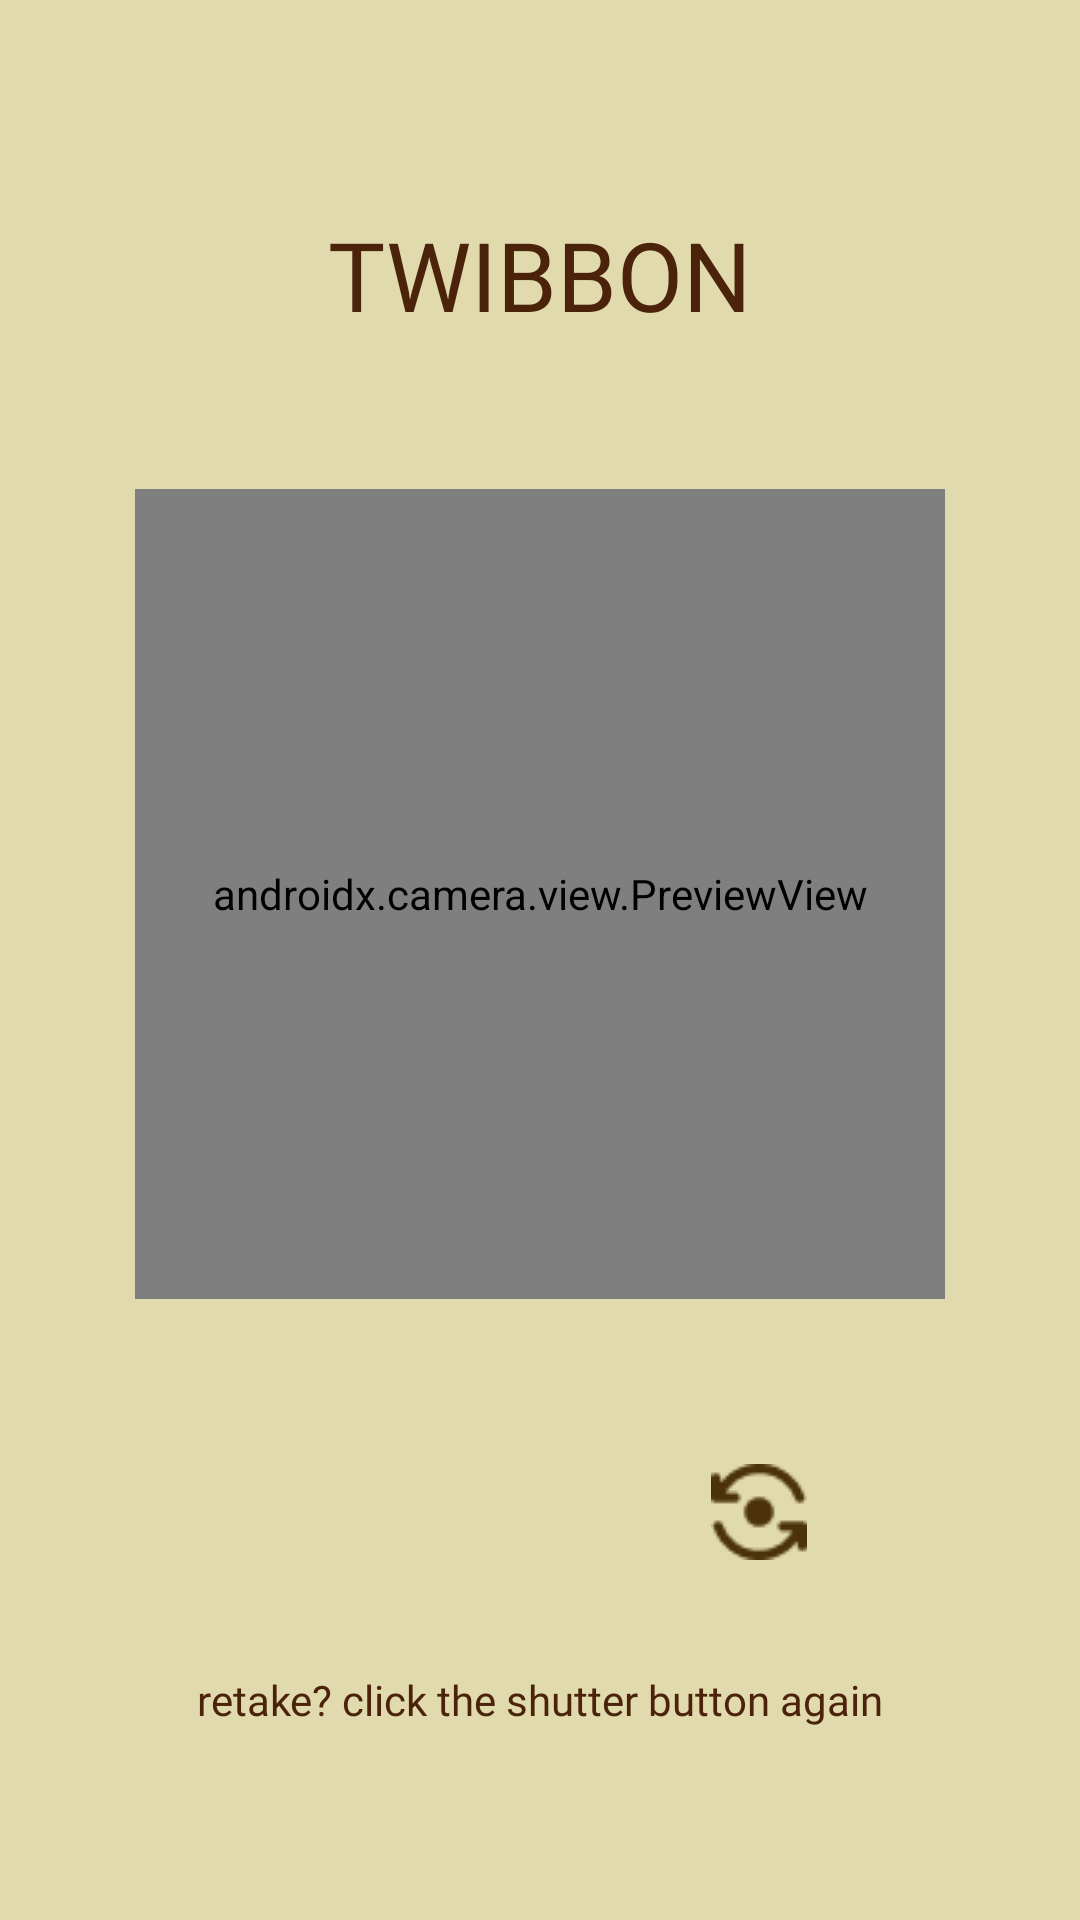

Named icons in this screenshot (1080px x 1920px) and their centers, point (x, y):
Flip camera: point (759, 1512)
